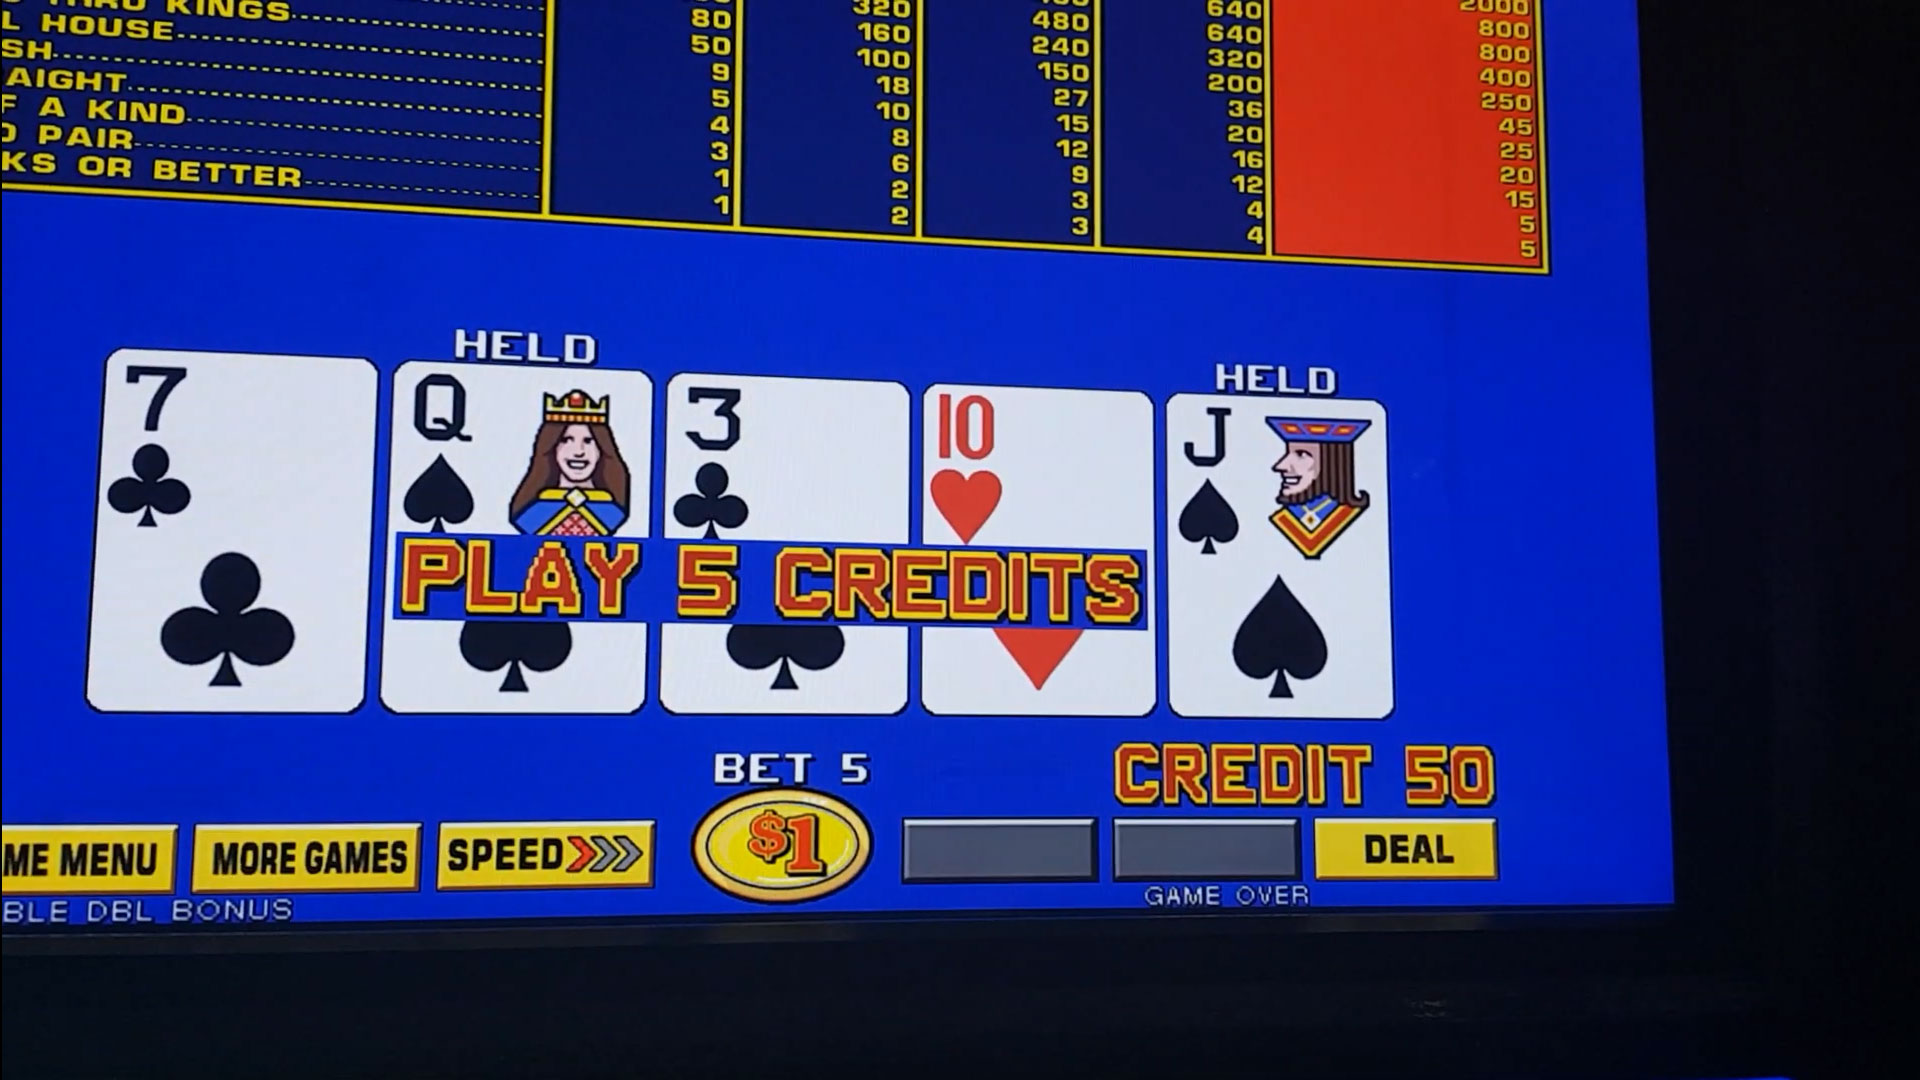C3: (673, 385, 905, 535)
C7: (115, 363, 369, 535)
HT: (926, 394, 1149, 542)
SJ: (1175, 405, 1381, 551)
SQ: (401, 375, 644, 530)
